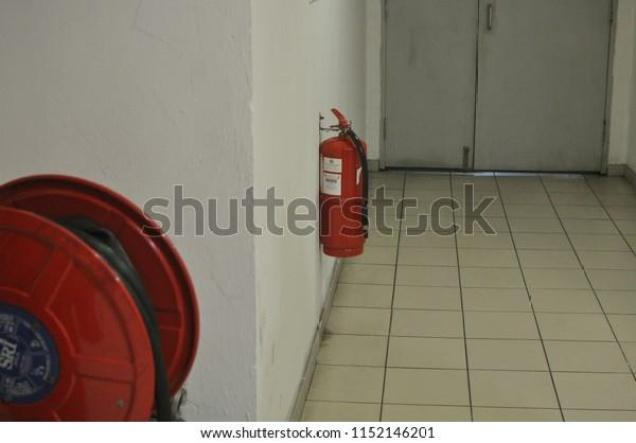APAR: (319, 107, 369, 256)
